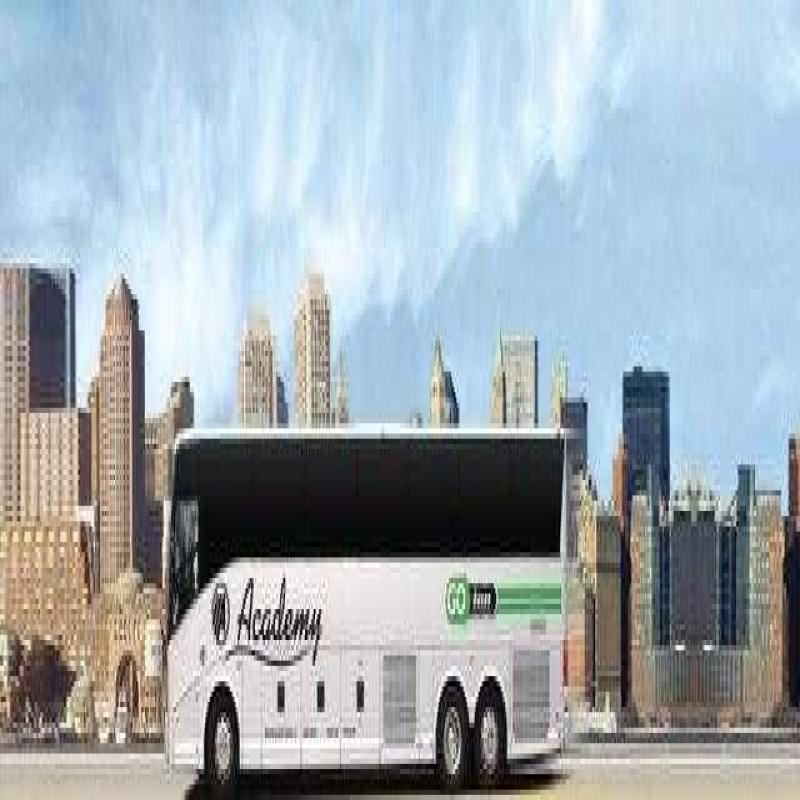bus: (172, 377, 586, 800)
